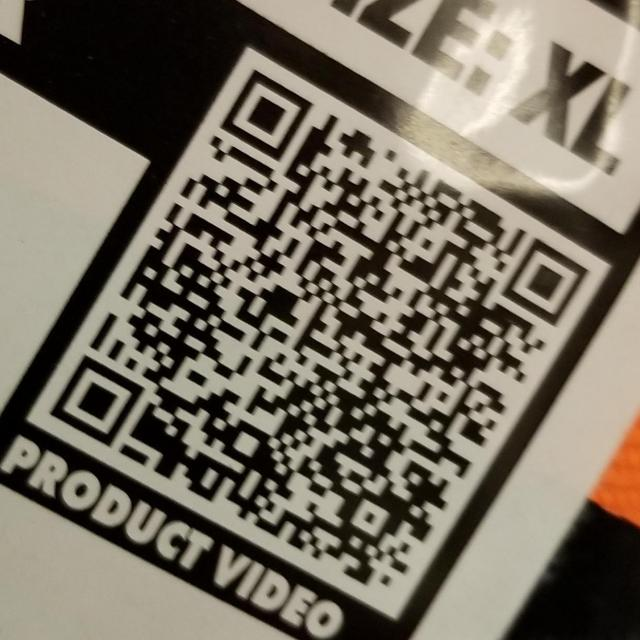QR_CODE: (49, 64, 588, 586)
